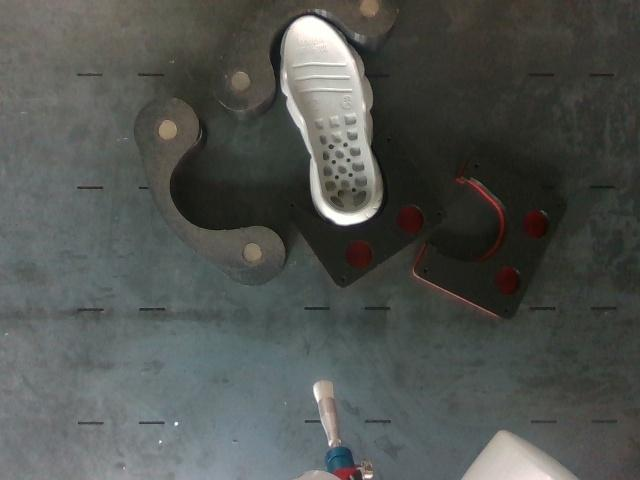shoes: (285, 17, 373, 214)
